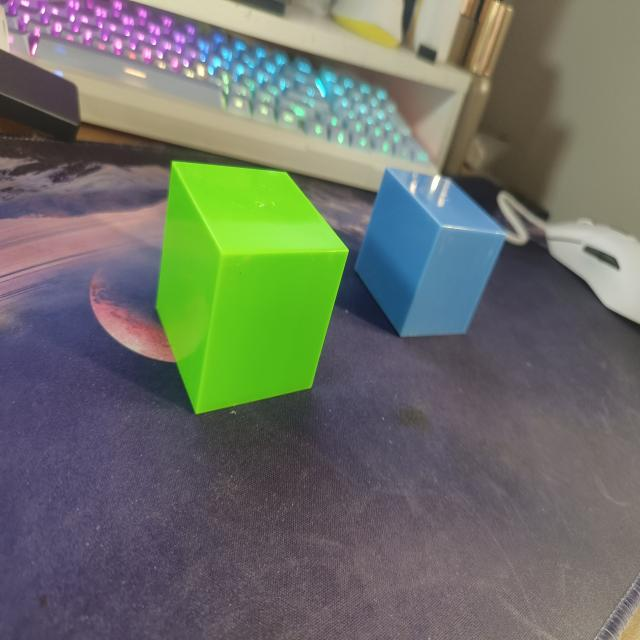blue: (355, 163, 509, 339)
green: (134, 136, 355, 421)
